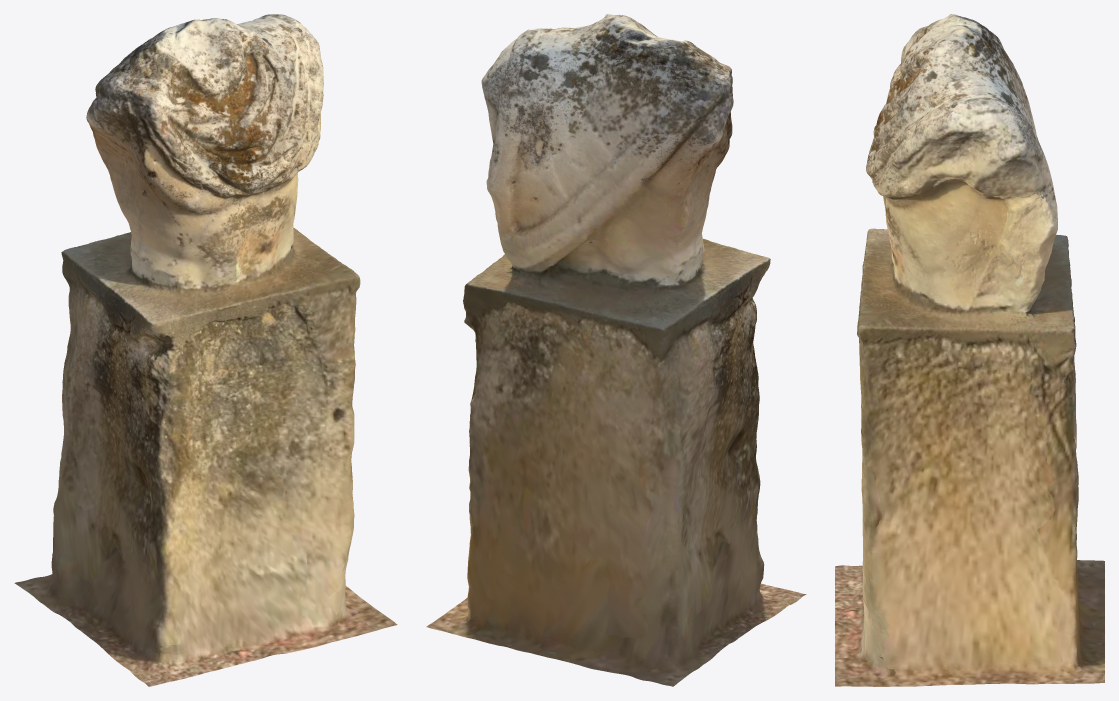
File: bust-fragment-roman-villas-of-carthage.glb
3 renders of one model, left to right at view 1: azimuth 30°, elevation 25°; view 2: azimuth 150°, elevation 25°; view 3: azimuth 270°, elevation 25°, orthographic.
Parts seen in each view (by area): view 1: Object_2; view 2: Object_2; view 3: Object_2.
Boxes of the visible parts, x1,y1,x2,y2 form: Object_2: (14, 14, 397, 686); Object_2: (426, 14, 806, 686); Object_2: (835, 14, 1104, 686).
Bounding box in the file's own units: 0.5956 × 1.35 × 0.5576.
1 material, 1 textured.
